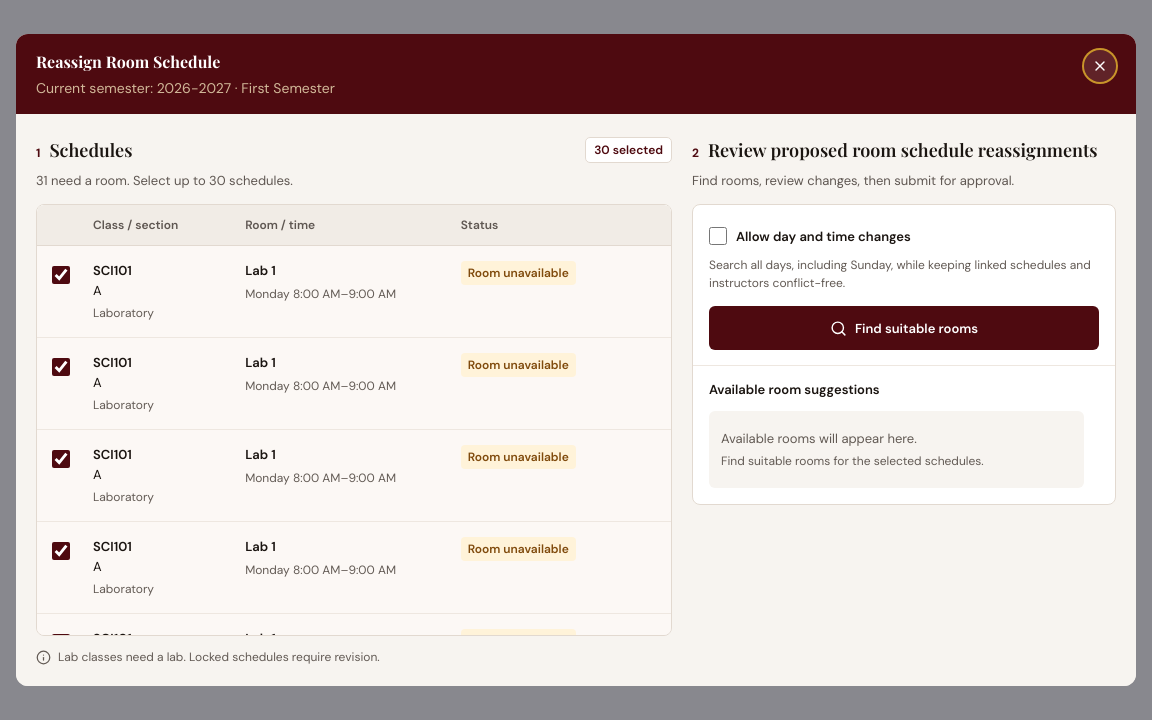
Room recovery workflow › caps automatically selected affected meetings at the server batch limit
The image size is (1152, 720).
Click the button "Find suitable rooms" at (904, 328), box [709,306,1099,350]
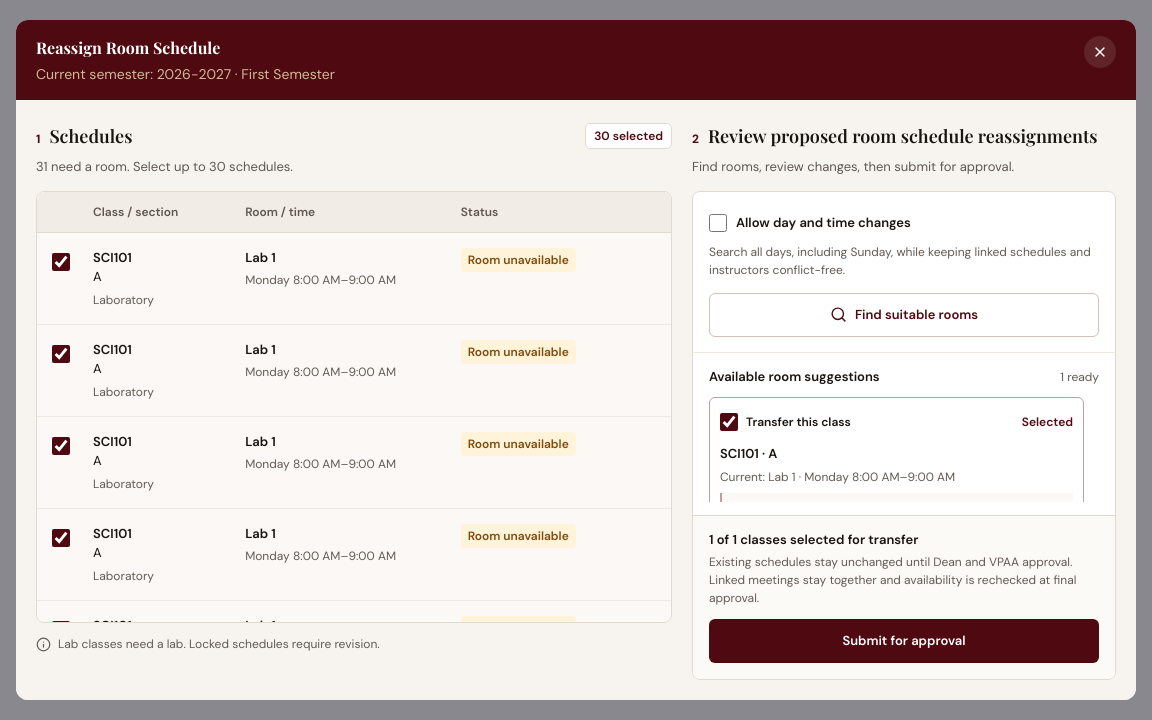
Check: the button "Submit for approval" is shown, box [709,619,1099,663]
